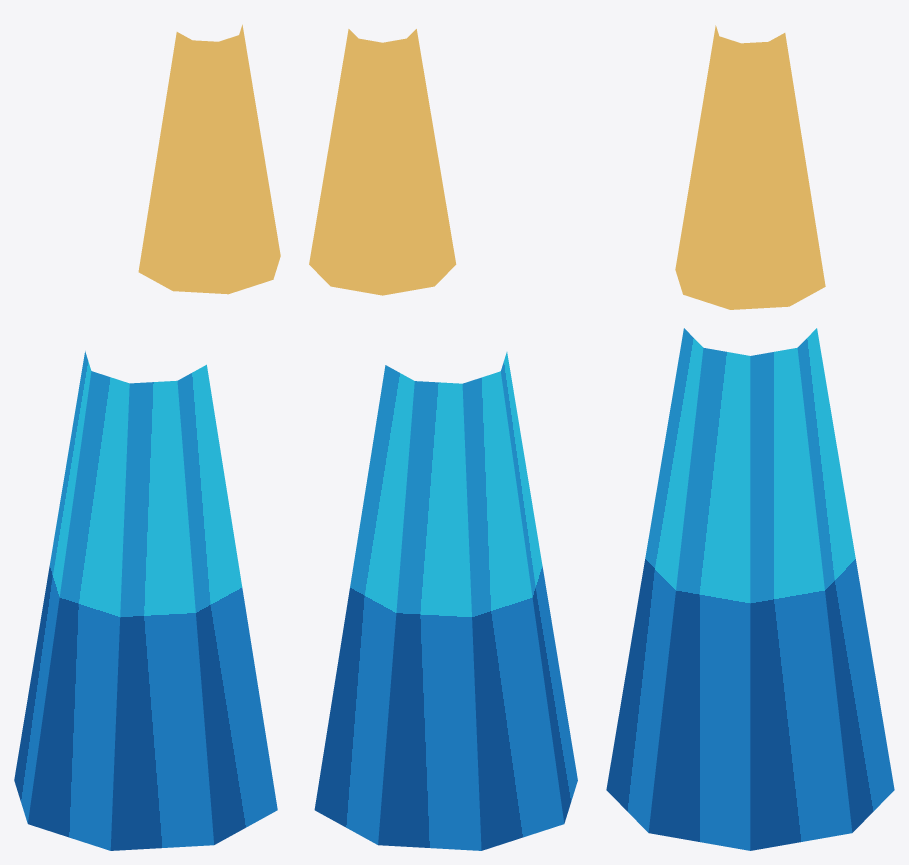
Rendered from beacon_assembly.gltf.
The picture shows the model from 3 angles, left to right: view 1: azimuth 30°, elevation 25°; view 2: azimuth 150°, elevation 25°; view 3: azimuth 270°, elevation 25°; orthographic projection. The views are drawn at different scales.
Parts seen in each view (by area): view 1: Signal body, Amber cap; view 2: Signal body, Amber cap; view 3: Signal body, Amber cap.
Part boxes in pixels (<box>): Signal body: <box>14,351,277,850</box>; Amber cap: <box>138,24,280,294</box>; Signal body: <box>314,352,577,850</box>; Amber cap: <box>309,29,456,295</box>; Signal body: <box>606,328,894,850</box>; Amber cap: <box>675,25,825,309</box>.
Size of the model in its own units: 1.34 by 3.95 by 1.3.
2 materials, 1 textured.
